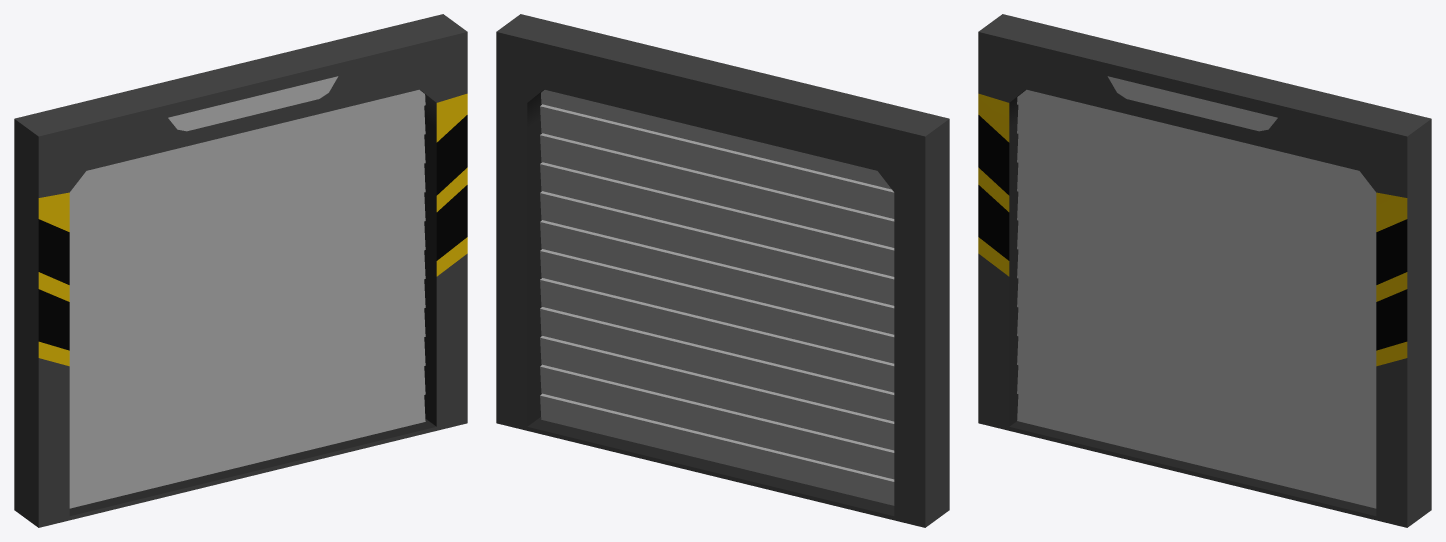
Rendered from porte usine intérieur v2.fbx.
The picture shows the model from 3 angles, left to right: view 1: azimuth 30°, elevation 25°; view 2: azimuth 150°, elevation 25°; view 3: azimuth 330°, elevation 25°; orthographic projection.
Visible parts, largest first — view 1: porte, bordure; view 2: porte, bordure; view 3: porte, bordure.
Part boxes in pixels (x1,y1,x2,y2): porte: [69, 89, 425, 508]; bordure: [14, 14, 467, 527]; porte: [540, 90, 894, 505]; bordure: [496, 14, 949, 527]; porte: [1017, 89, 1376, 508]; bordure: [978, 14, 1431, 527].
Size of the model in its own units: 3.18 by 2.77 by 0.3131.
